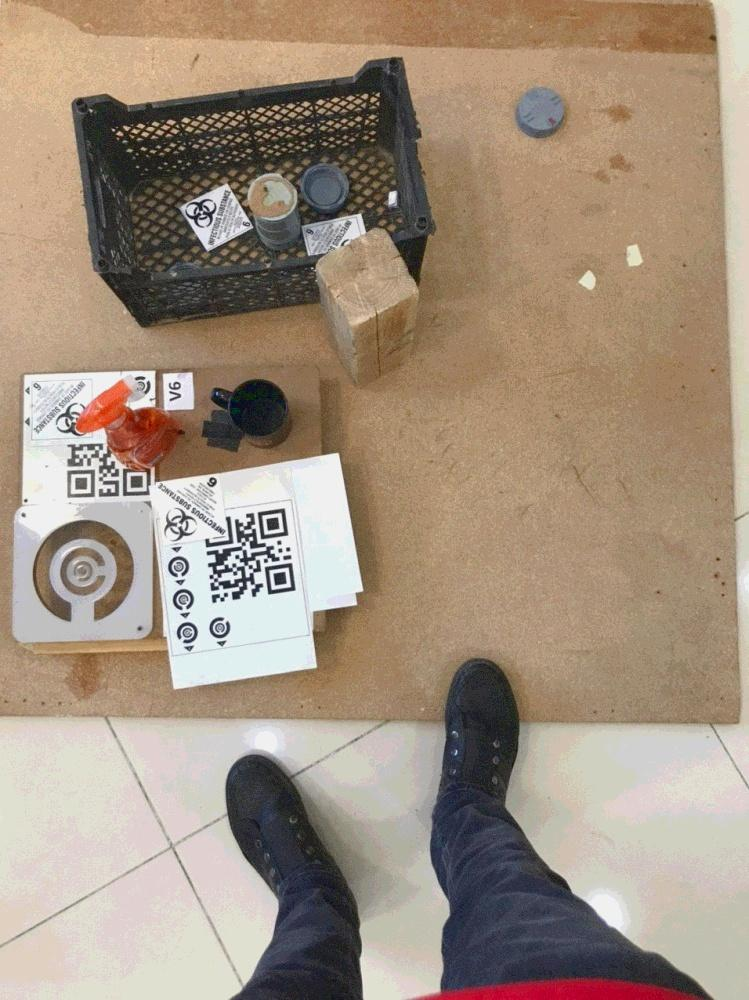infectious-substance: (153, 475, 228, 544), (183, 180, 250, 250), (30, 376, 95, 443)
